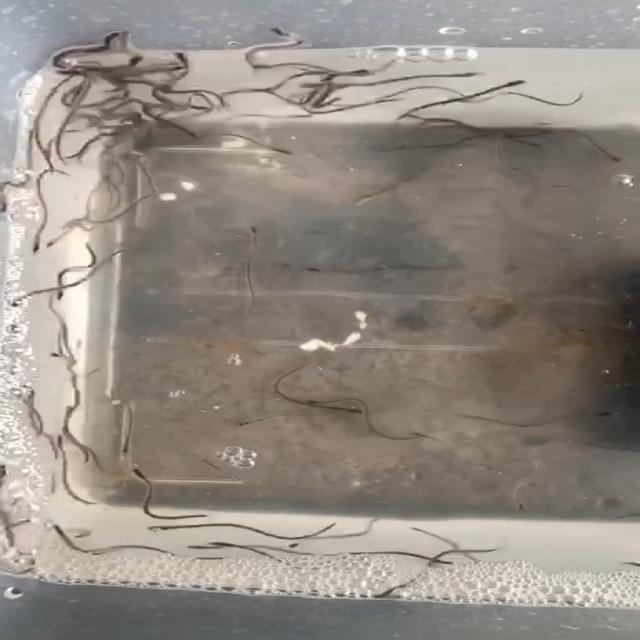inactive_glass_eel: (336, 63, 386, 80), (367, 584, 404, 602), (259, 24, 306, 38), (480, 79, 522, 94), (451, 69, 498, 82), (14, 383, 47, 401), (593, 148, 627, 165), (98, 29, 120, 54), (153, 61, 194, 74), (130, 463, 158, 482), (416, 552, 454, 566), (186, 544, 237, 554), (38, 233, 65, 251), (120, 439, 146, 457), (9, 292, 35, 309), (205, 538, 244, 549), (179, 104, 217, 115), (57, 68, 91, 80), (296, 263, 336, 273), (0, 464, 21, 483), (306, 396, 342, 407), (234, 418, 270, 429), (147, 521, 175, 535), (244, 224, 265, 242), (49, 350, 76, 364), (47, 521, 68, 539), (581, 411, 622, 420), (272, 144, 298, 158), (122, 56, 146, 71), (172, 128, 206, 138), (0, 193, 15, 215), (54, 434, 72, 452), (172, 51, 192, 66), (342, 406, 367, 418), (54, 286, 72, 302), (286, 537, 312, 548), (31, 233, 44, 254)
